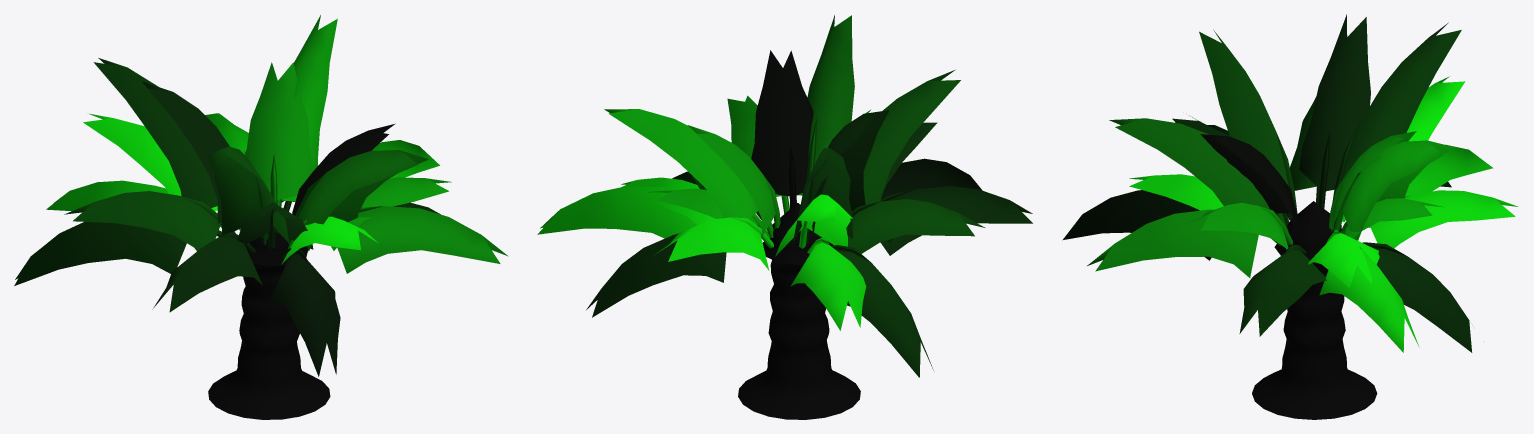
Rendered from M_P10_Tree_8.fbx.
3 views of the same model, side by side, from view 1: azimuth 30°, elevation 25°; view 2: azimuth 150°, elevation 25°; view 3: azimuth 270°, elevation 25° (orthographic). The views are drawn at different scales.
Visible parts, largest first — view 1: Palm_1_8; view 2: Palm_1_8; view 3: Palm_1_8.
Boxes of the visible parts, x1,y1,x2,y2 form: Palm_1_8: (14, 15, 508, 419); Palm_1_8: (537, 15, 1032, 419); Palm_1_8: (1062, 14, 1518, 419).
Size of the model in its own units: 327 by 244 by 309.
